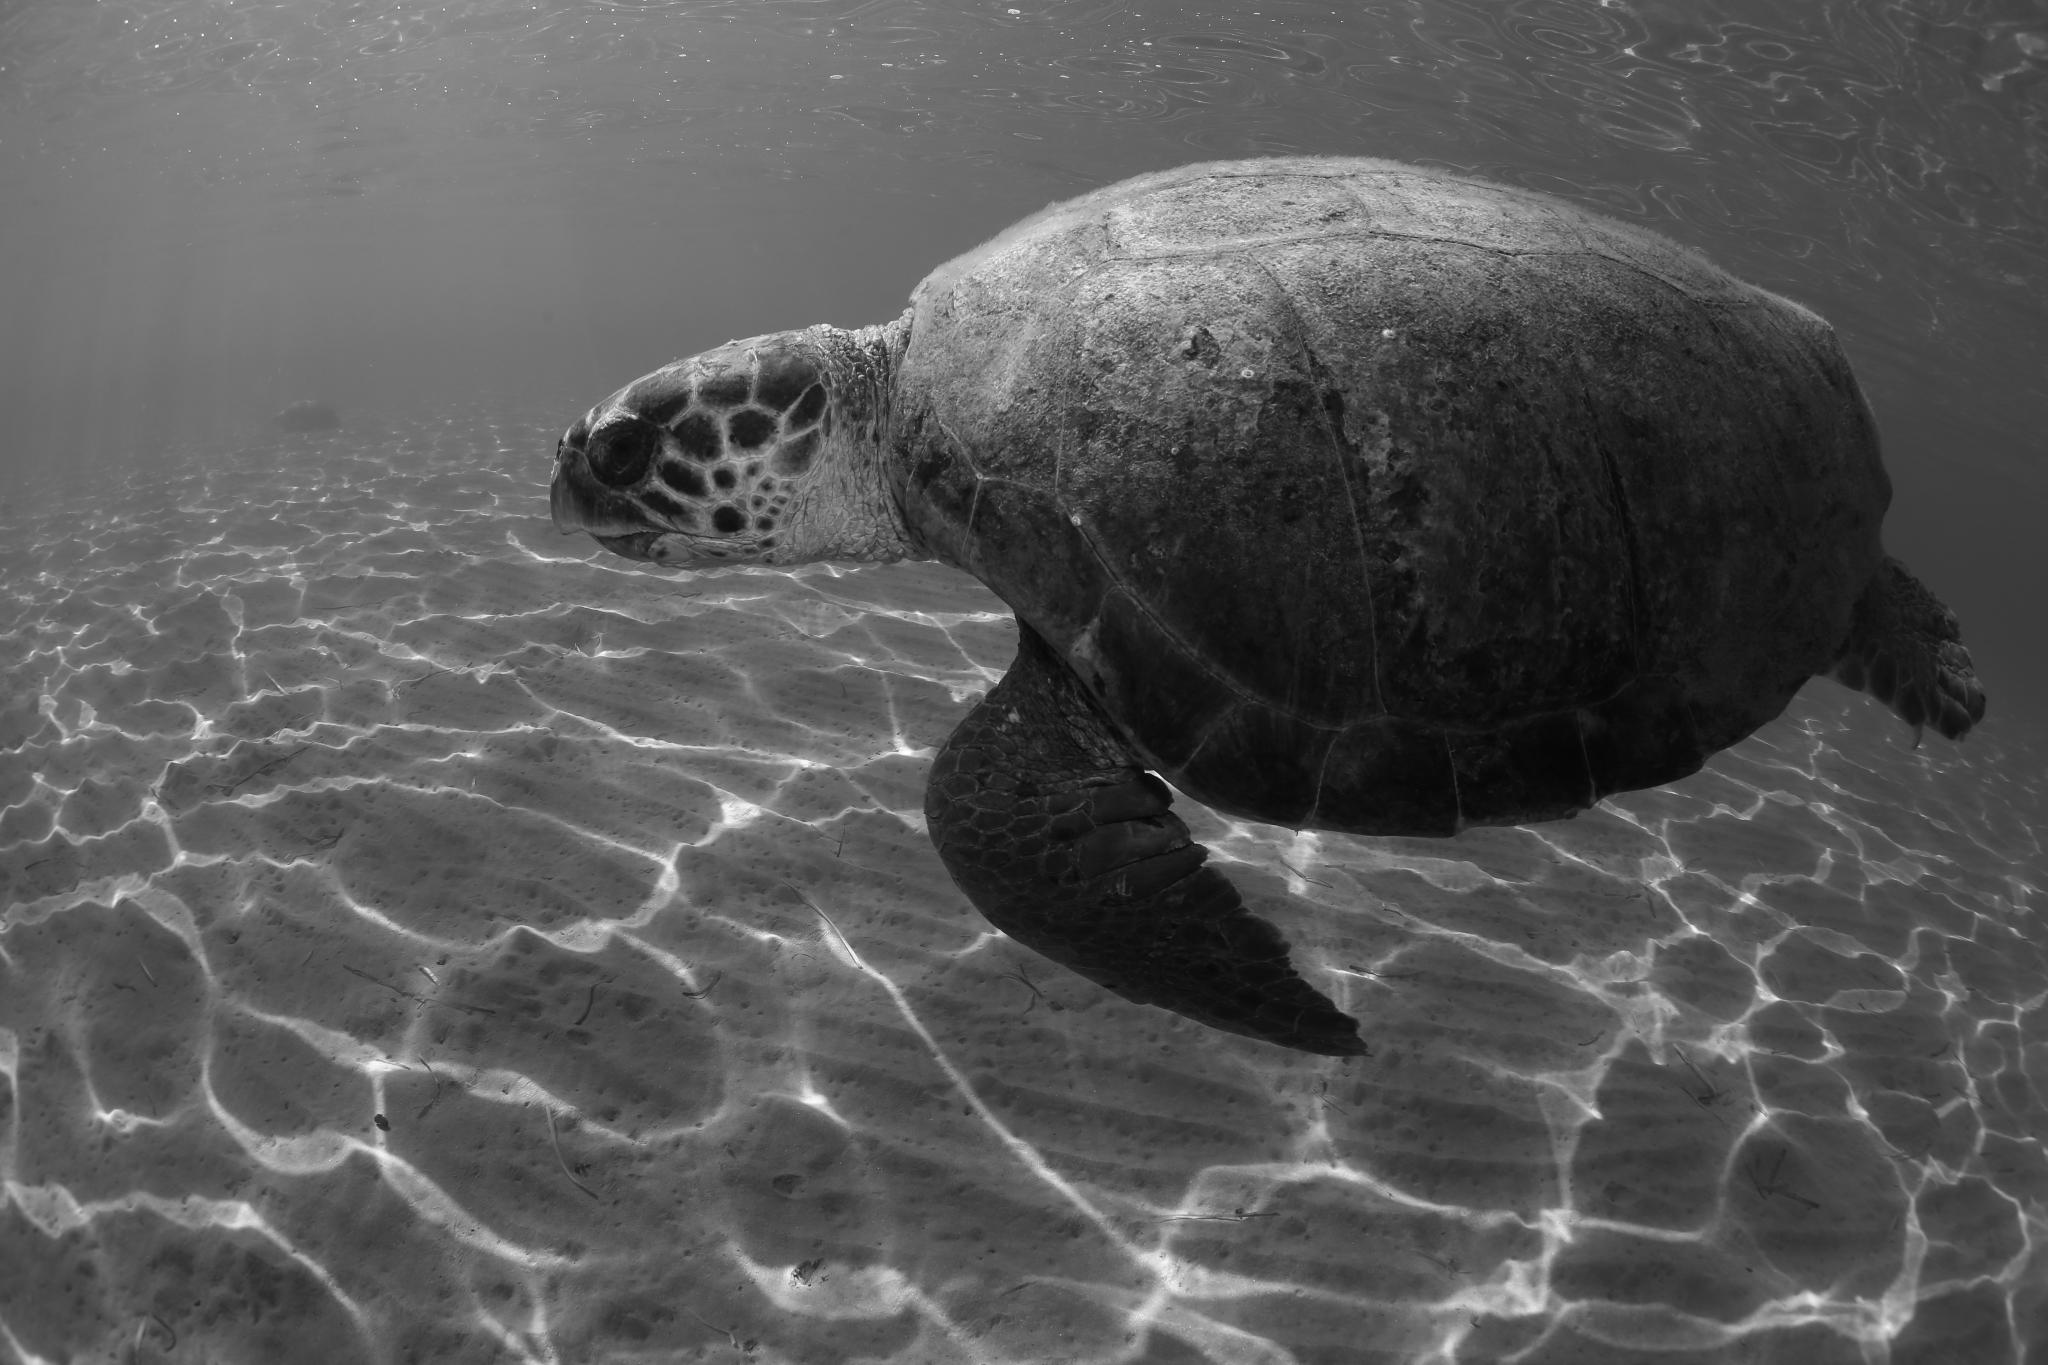Head: (551, 319, 917, 569)
